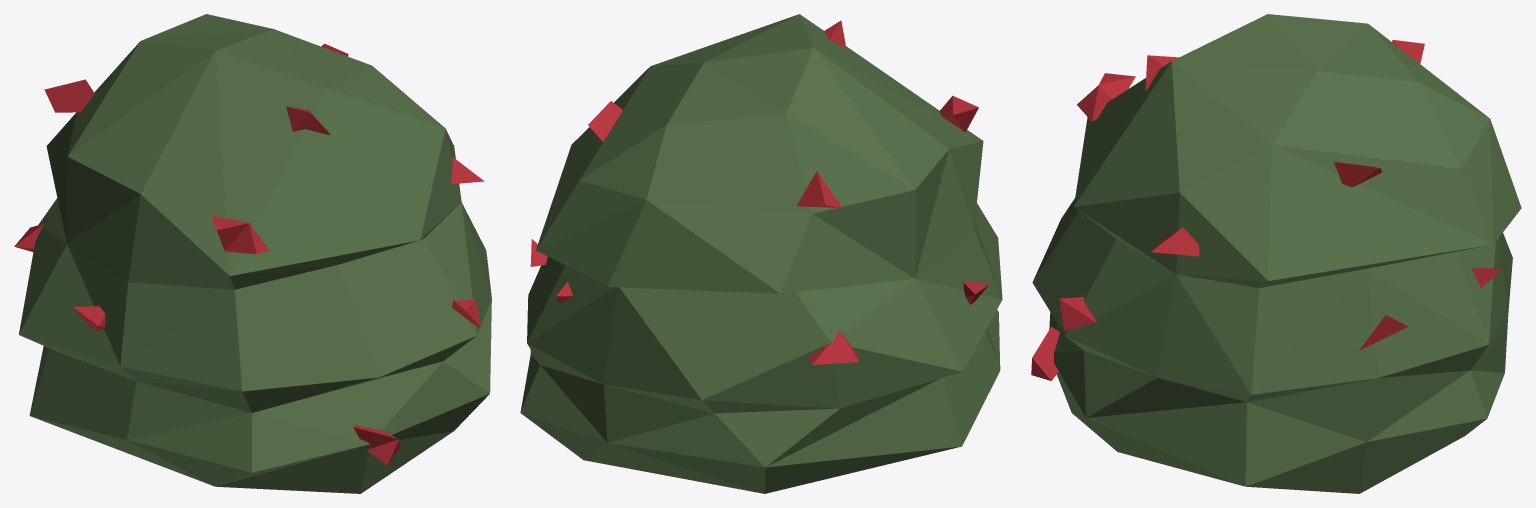
File: BushBerries_2.lod2.glb
3 renders of one model, left to right at view 1: azimuth 30°, elevation 25°; view 2: azimuth 150°, elevation 25°; view 3: azimuth 270°, elevation 25°, orthographic. The views are drawn at different scales.
Visible parts, largest first — view 1: BushBerries_2; view 2: BushBerries_2; view 3: BushBerries_2.
Part boxes in pixels (x1,y1,x2,y2): BushBerries_2: (14, 14, 491, 493); BushBerries_2: (520, 14, 1002, 493); BushBerries_2: (1031, 14, 1521, 493).
Size of the model in its own units: 1.32 by 1.13 by 1.3.
